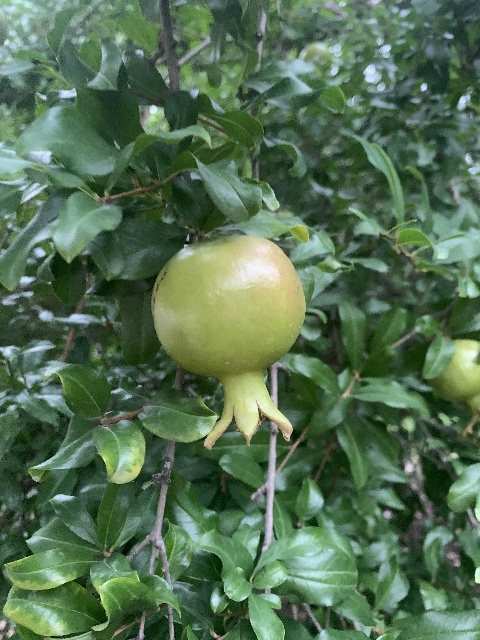mid-growth: (150, 233, 306, 448), (429, 339, 480, 430)
